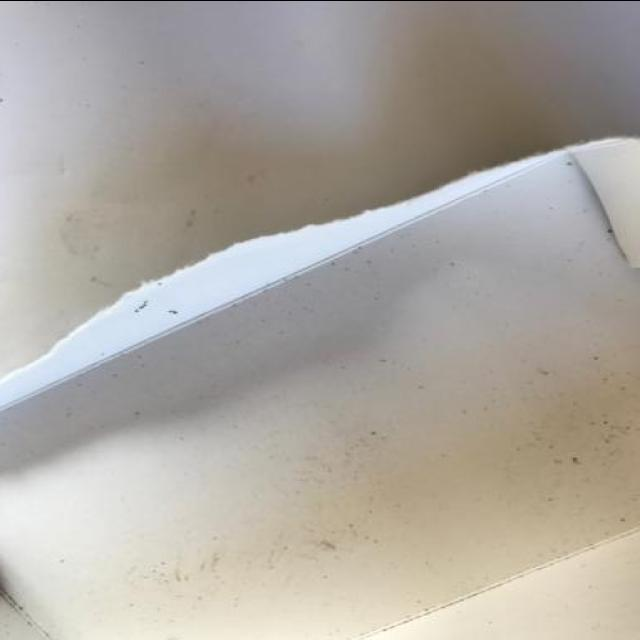kertas: (0, 130, 640, 640)
